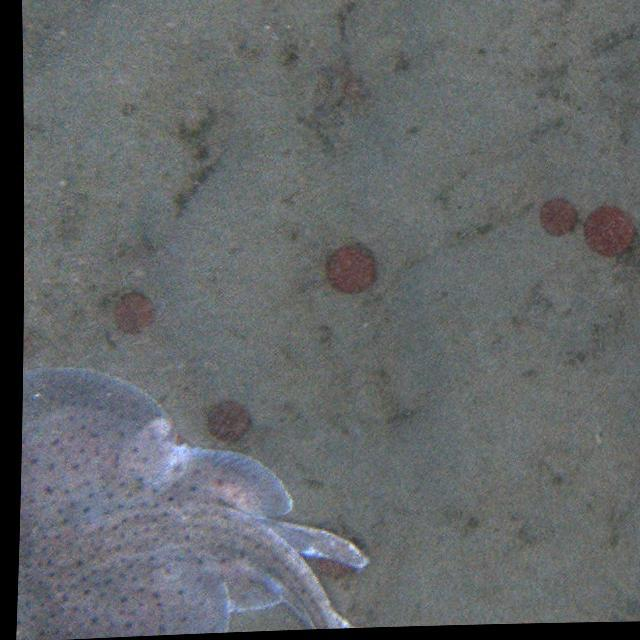skate: (24, 365, 362, 635)
